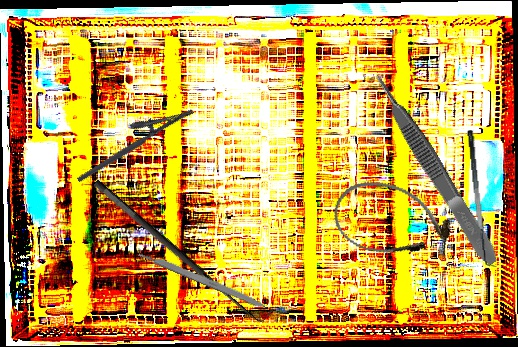Cannula: (325, 170, 460, 273)
Hook Surgical: (91, 165, 275, 331)
Needle Holder: (67, 93, 195, 183)
Scalpel Handle: (137, 248, 269, 311)
Spatula Surgical: (465, 128, 498, 269)
Tissue Forceps: (369, 68, 502, 270)
